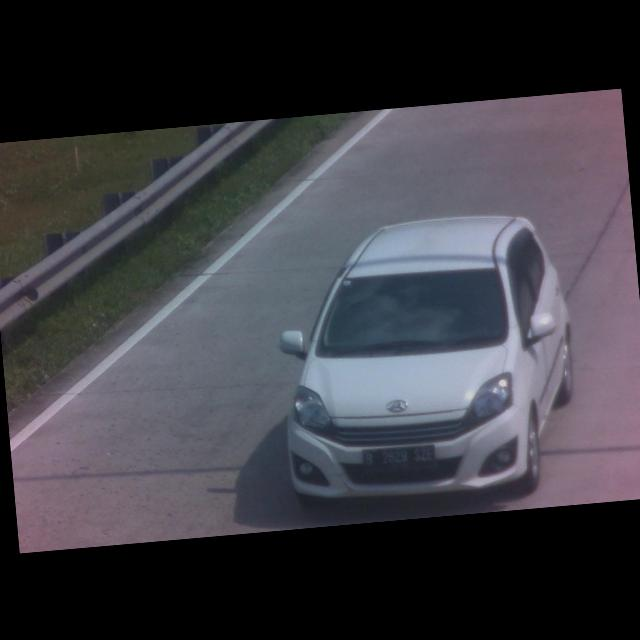plate: (359, 440, 438, 473)
